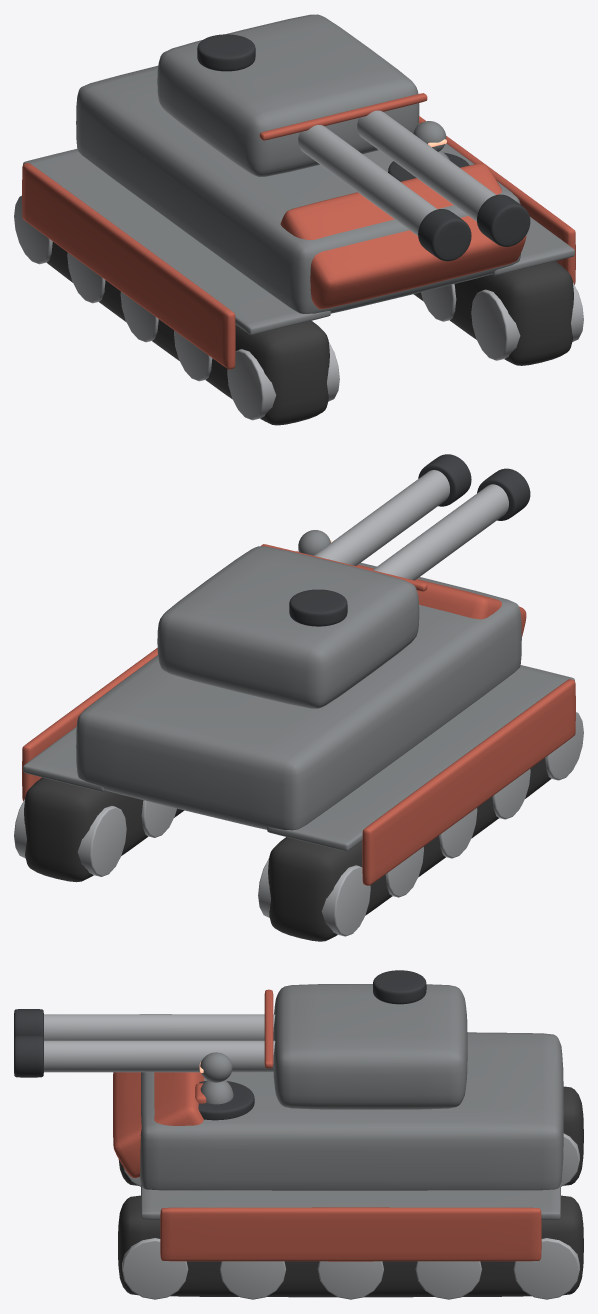
Rendered from vehicle_heavytank.glb.
The picture shows the model from 3 angles, top to bottom: view 1: azimuth 30°, elevation 25°; view 2: azimuth 150°, elevation 25°; view 3: azimuth 270°, elevation 25°; orthographic projection. The views are drawn at different scales.
Parts seen in each view (by area): view 1: Cube.004, Cube.011, Cube.005, Cube.008, Cube.003, Cube.002, Cube, Cylinder.014, Cylinder.012, Cylinder, Cylinder.005, Cylinder.015 (+11 smaller); view 2: Cube.004, Cube.011, Cube.008, Cube.003, Cube.002, Cube, Cylinder.012, Cylinder.014, Cylinder.004, Cylinder.009, Cube.005, Cube.007 (+10 smaller); view 3: Cube.004, Cube.011, Cube.007, Cube, Cube.001, Cylinder.014, Cylinder.012, Cube.005, Cylinder, Cylinder.004, Cylinder.001, Cylinder.002 (+10 smaller).
Boxes of the visible parts, x1,y1,x2,y2 form: Cube.004: (76, 65, 520, 313); Cube.011: (157, 14, 419, 176); Cube.005: (280, 163, 526, 309); Cube.008: (22, 163, 235, 369); Cube.003: (23, 149, 330, 334); Cube.002: (47, 241, 329, 425); Cube: (413, 261, 573, 365); Cylinder.014: (357, 110, 496, 221); Cylinder.012: (298, 125, 437, 235); Cylinder: (471, 282, 583, 360); Cylinder.005: (227, 342, 339, 420); Cylinder.015: (477, 194, 530, 246); Cube.004: (76, 563, 521, 830); Cube.011: (157, 546, 419, 708); Cube.008: (362, 679, 575, 885); Cube.003: (267, 665, 574, 851); Cube.002: (268, 758, 550, 941); Cube: (24, 777, 184, 882); Cylinder.012: (373, 484, 508, 580); Cylinder.014: (314, 470, 449, 565); Cylinder.004: (14, 799, 126, 876); Cylinder.009: (258, 858, 370, 936); Cube.005: (296, 551, 526, 636); Cube.007: (22, 648, 157, 800); Cube.004: (140, 1032, 563, 1190); Cube.011: (273, 984, 467, 1109); Cube.007: (160, 1207, 541, 1261); Cube: (118, 1195, 583, 1297); Cube.001: (141, 1184, 560, 1219); Cylinder.014: (44, 1040, 275, 1072); Cylinder.012: (44, 1014, 275, 1040); Cube.005: (113, 1072, 204, 1178); Cylinder: (122, 1238, 188, 1299); Cylinder.004: (513, 1238, 579, 1299); Cylinder.001: (220, 1261, 286, 1299); Cylinder.002: (317, 1261, 383, 1299).
Bounding box in the file's own units: 2.47 × 1.72 × 3.8.
Materials: 2 (2 with a texture image).
